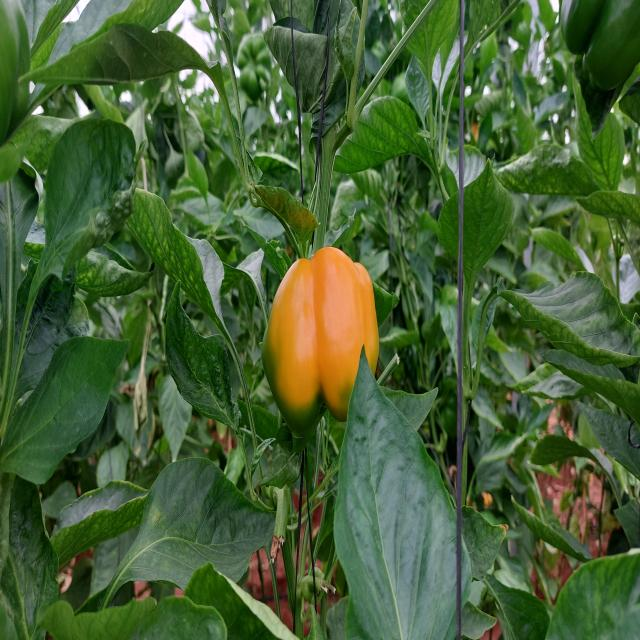Yellow-Ready-to-Harvest: (271, 240, 383, 400)
